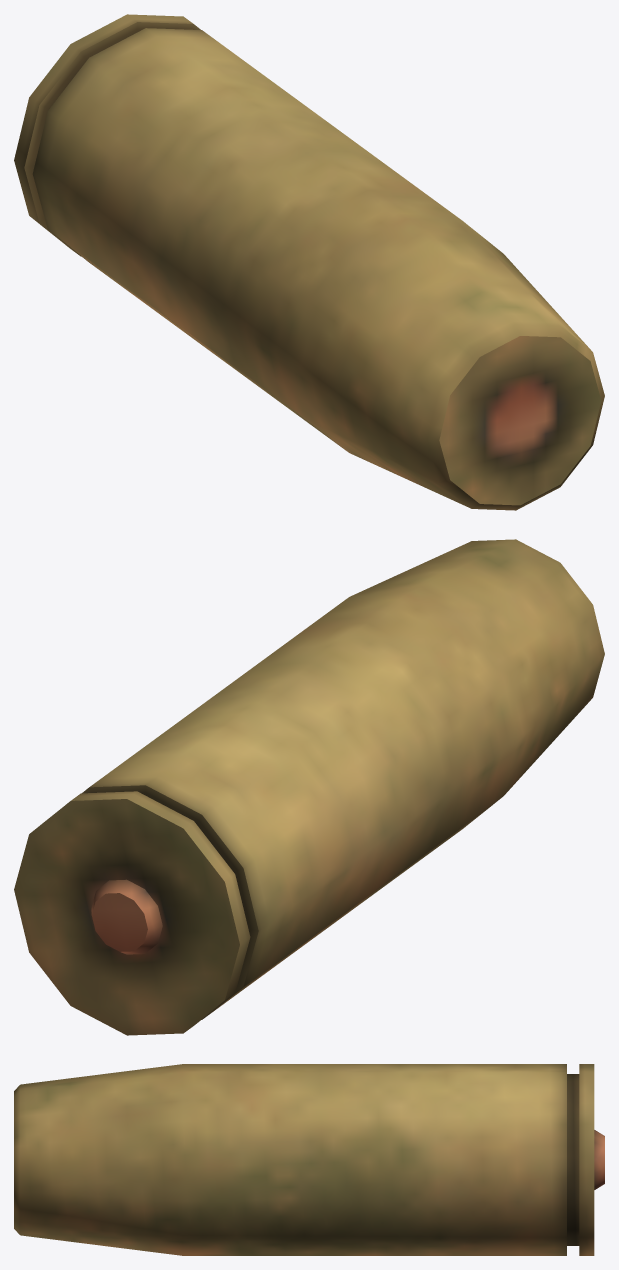
File: carbineshell.fbx
The picture shows the model from 3 angles, top to bottom: view 1: azimuth 30°, elevation 25°; view 2: azimuth 150°, elevation 25°; view 3: azimuth 270°, elevation 25°; orthographic projection. The views are drawn at different scales.
Parts seen in each view (by area): view 1: bullet; view 2: bullet; view 3: bullet.
Part boxes in pixels (x1=…): bullet: x1=14, y1=14, x2=604, y2=510; bullet: x1=14, y1=539, x2=604, y2=1035; bullet: x1=14, y1=1064, x2=604, y2=1255.
Size of the model in its own units: 1.5 by 1.5 by 4.6.
